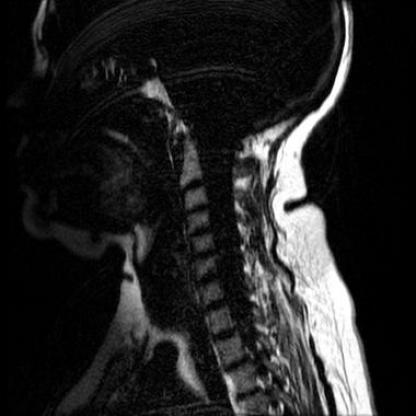Disc Protrusionrotation: (192, 272, 221, 288), (181, 202, 209, 215), (186, 226, 213, 239), (189, 250, 218, 261)
Osteophytesrotation: (193, 272, 222, 288), (182, 202, 210, 215), (186, 226, 213, 239), (188, 250, 217, 261)
